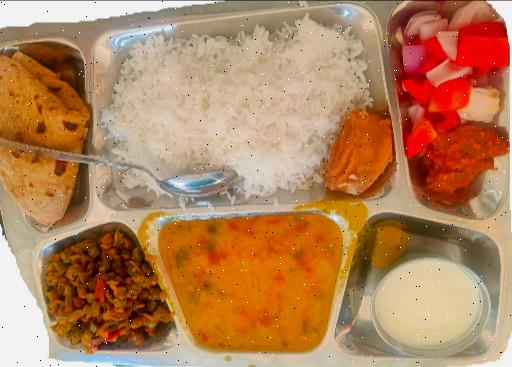Curd: (367, 254, 496, 358)
Dal: (173, 218, 335, 344)
Pickle: (424, 127, 502, 204)
Rice: (104, 21, 370, 203)
Roti: (0, 40, 87, 221)
Salad: (402, 0, 496, 128)
Sweet: (317, 113, 391, 194)
Vegetable: (41, 224, 165, 350)
